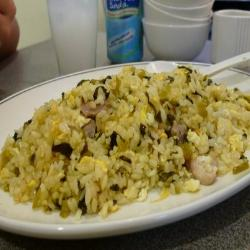rice: (16, 84, 229, 193)
